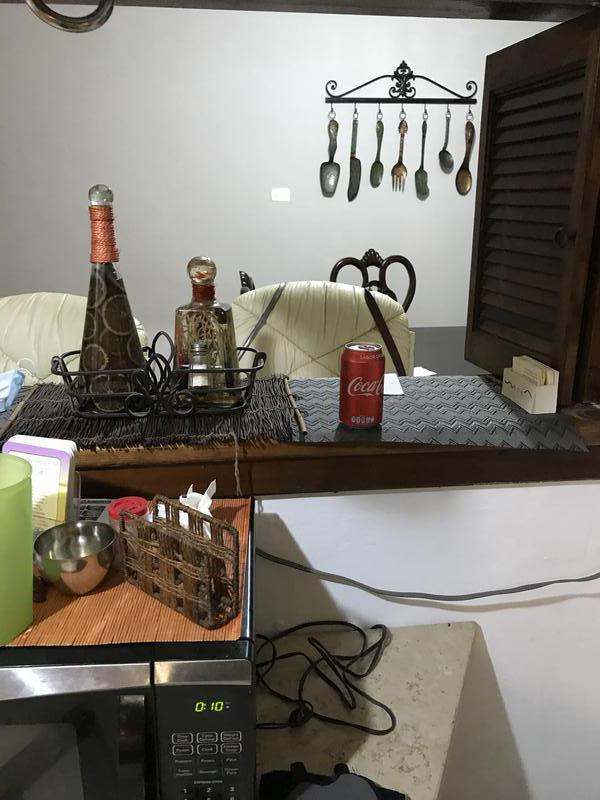coca_cola: (339, 342, 386, 429)
